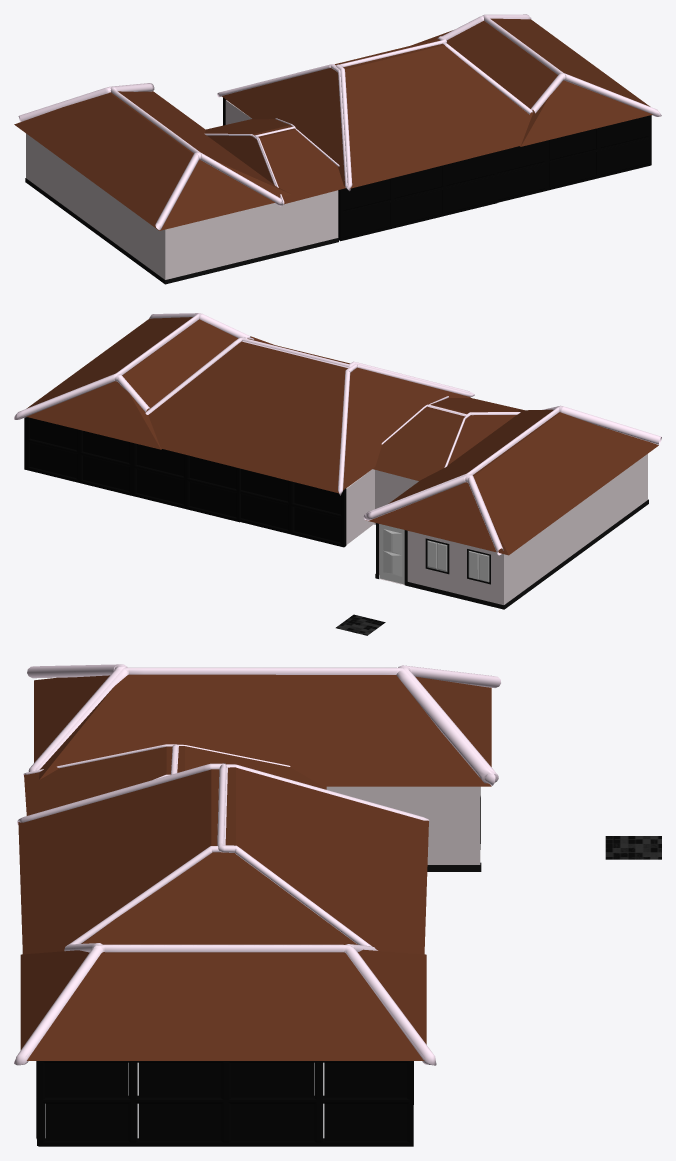
File: SerambiPenyiksaan 1.fbx
The picture shows the model from 3 angles, top to bottom: view 1: azimuth 30°, elevation 25°; view 2: azimuth 150°, elevation 25°; view 3: azimuth 270°, elevation 25°; orthographic projection. The views are drawn at different scales.
Parts seen in each view (by area): view 1: Cube.009, Cube.014, Cube.011, Cube, Cube.013, Cube.010, Cube.006, NurbsCurve.003, NurbsCurve.001, Cube.008, Cube.007, NurbsCurve (+5 smaller); view 2: Cube.009, Cube.014, Cube.011, Cube, Cube.013, Cube.004, Cube.003, Cube.005, NurbsCurve.003, NurbsCurve.001, NurbsCurve, Plane.003 (+4 smaller); view 3: Cube.009, Cube, Cube.014, Cube.001, Cube.002, NurbsCurve.003, Cube.013, Cube.011, NurbsCurve, NurbsCurve.001, Plane.001, Plane (+2 smaller).
Part boxes in pixels (x1=…): Cube.009: x1=221, y1=39, x2=533, y2=188; Cube.014: x1=14, y1=91, x2=291, y2=230; Cube.011: x1=25, y1=100, x2=338, y2=284; Cube: x1=411, y1=18, x2=652, y2=146; Cube.013: x1=205, y1=119, x2=345, y2=204; Cube.010: x1=343, y1=166, x2=441, y2=237; Cube.006: x1=549, y1=116, x2=647, y2=187; NurbsCurve.003: x1=18, y1=83, x2=282, y2=230; NurbsCurve.001: x1=217, y1=36, x2=533, y2=190; Cube.008: x1=441, y1=152, x2=493, y2=213; Cube.007: x1=497, y1=141, x2=544, y2=199; NurbsCurve: x1=442, y1=14, x2=661, y2=116; Cube.009: x1=148, y1=338, x2=470, y2=493; Cube.014: x1=366, y1=409, x2=658, y2=555; Cube.011: x1=346, y1=454, x2=648, y2=609; Cube: x1=26, y1=317, x2=272, y2=449; Cube.013: x1=373, y1=397, x2=524, y2=480; Cube.004: x1=136, y1=444, x2=236, y2=517; Cube.003: x1=30, y1=418, x2=129, y2=490; Cube.005: x1=241, y1=469, x2=340, y2=542; NurbsCurve.003: x1=363, y1=405, x2=661, y2=555; NurbsCurve.001: x1=145, y1=337, x2=474, y2=495; NurbsCurve: x1=14, y1=313, x2=250, y2=419; Plane.003: x1=133, y1=443, x2=240, y2=522; Cube.009: x1=18, y1=767, x2=428, y2=954; Cube: x1=20, y1=949, x2=426, y2=1060; Cube.014: x1=34, y1=674, x2=491, y2=786; Cube.001: x1=45, y1=1062, x2=221, y2=1140; Cube.002: x1=231, y1=1062, x2=406, y2=1140; NurbsCurve.003: x1=27, y1=664, x2=500, y2=785; Cube.013: x1=24, y1=746, x2=326, y2=815; Cube.011: x1=326, y1=786, x2=481, y2=871; NurbsCurve: x1=14, y1=943, x2=436, y2=1065; NurbsCurve.001: x1=17, y1=763, x2=429, y2=950; Plane.001: x1=224, y1=1061, x2=413, y2=1146; Plane: x1=38, y1=1061, x2=227, y2=1146.
Bounding box in the file's own units: 16548 × 3865 × 11812.
